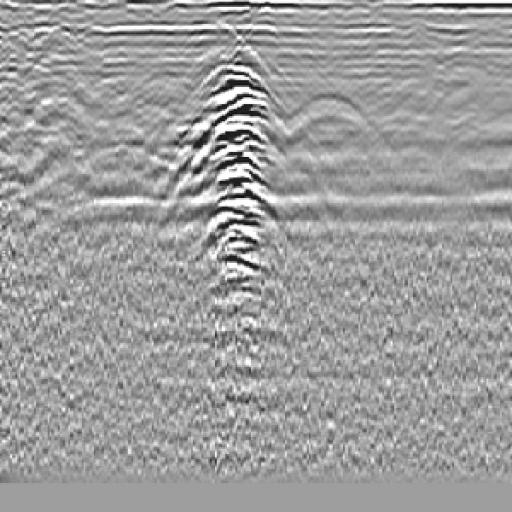metalic: (186, 44, 279, 346)
nonmetalic: (266, 91, 398, 166)
